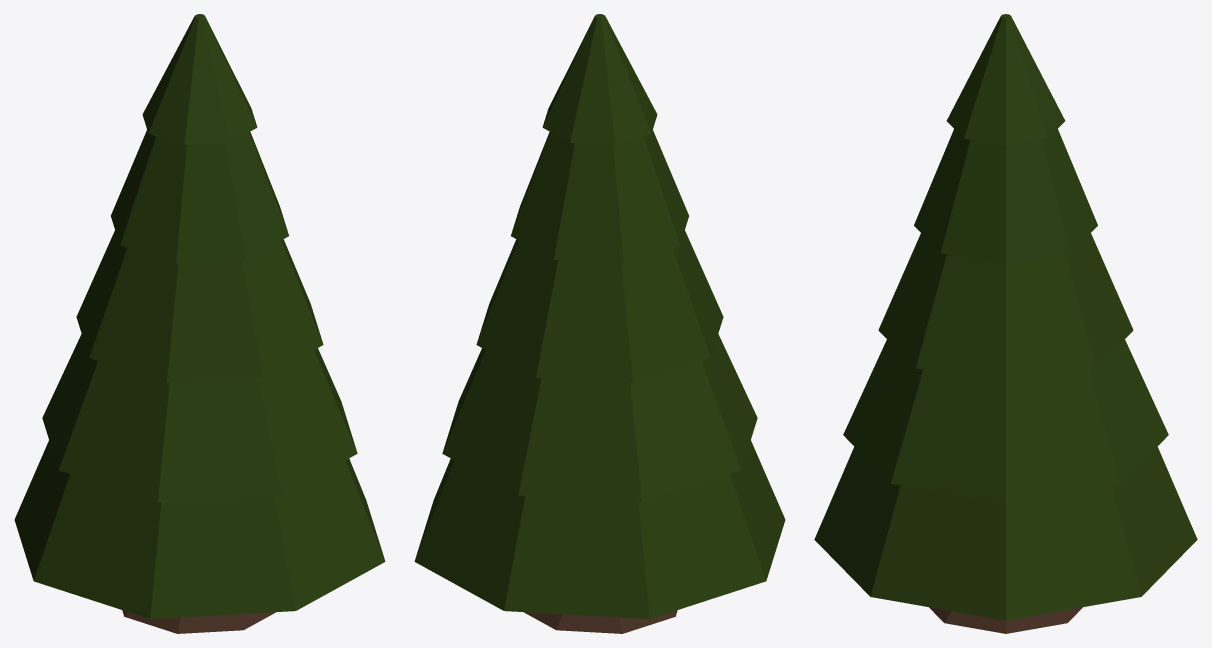
Rendered from PineTree003.fbx.
The picture shows the model from 3 angles, left to right: view 1: azimuth 30°, elevation 25°; view 2: azimuth 150°, elevation 25°; view 3: azimuth 270°, elevation 25°; orthographic projection.
Visible parts, largest first — view 1: Cylinder; view 2: Cylinder; view 3: Cylinder.
Part boxes in pixels (x1,y1,x2,y2): Cylinder: (14, 14, 385, 633); Cylinder: (414, 14, 785, 633); Cylinder: (814, 14, 1197, 633).
Size of the model in its own units: 942 by 1575 by 942.
